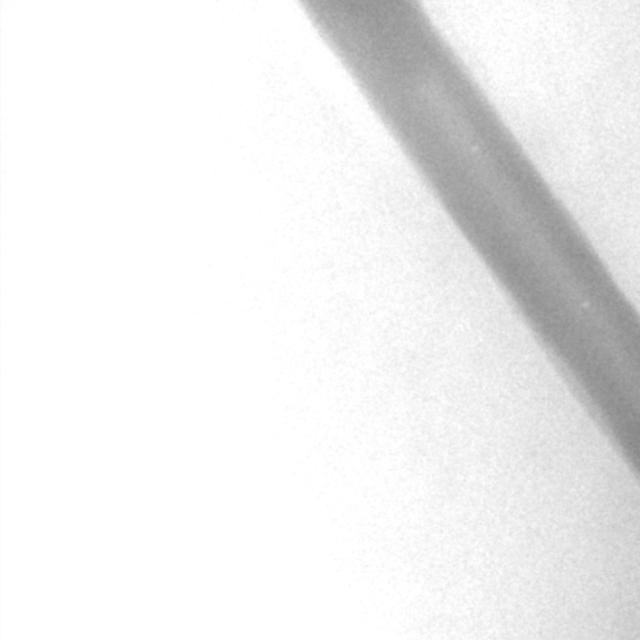air hole: (467, 141, 483, 158), (577, 296, 590, 311)
